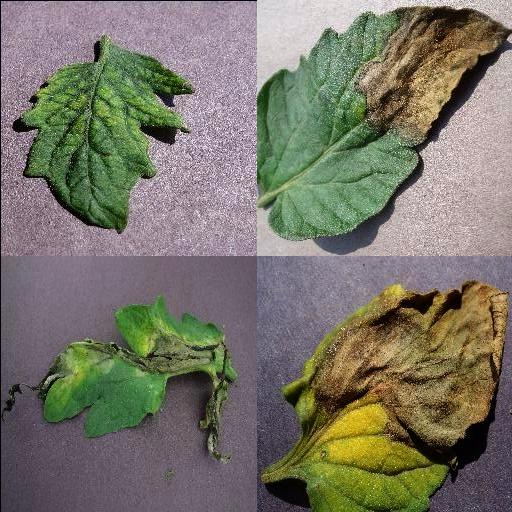Late Blight: (256, 6, 512, 242), (283, 280, 512, 512), (0, 293, 235, 463)
Mosaic Virus: (18, 44, 192, 234)
